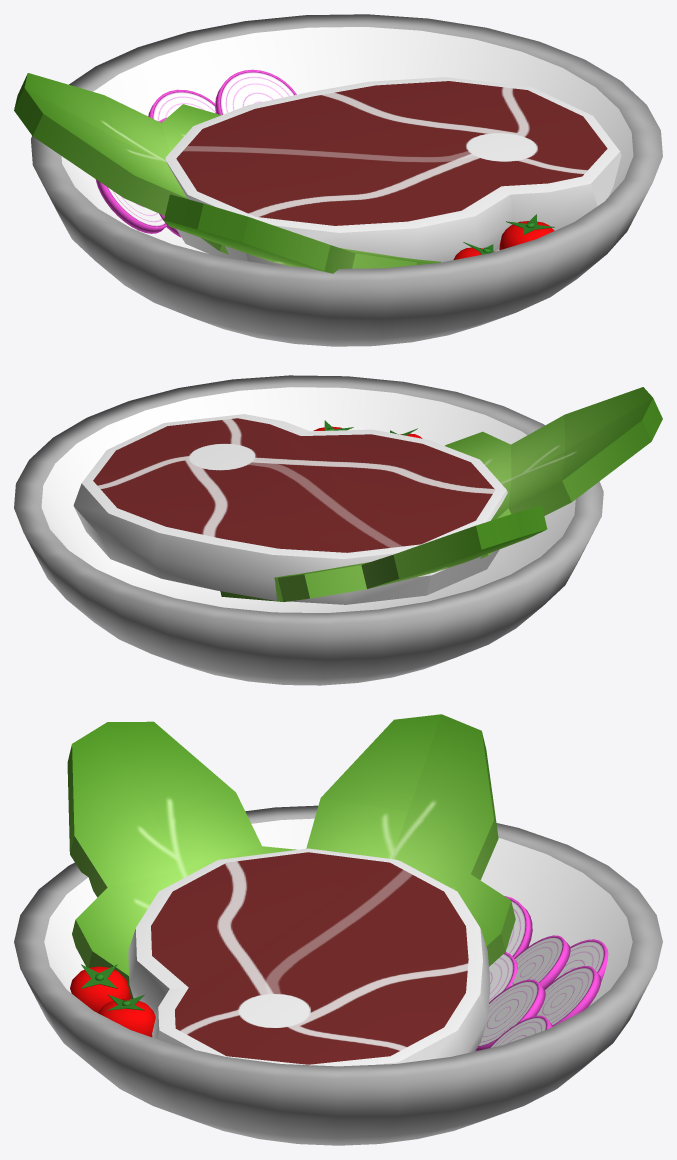
Rendered from Beef.fbx.
3 renders of one model, top to bottom at view 1: azimuth 30°, elevation 25°; view 2: azimuth 150°, elevation 25°; view 3: azimuth 270°, elevation 25°, orthographic. The views are drawn at different scales.
Visible parts, largest first — view 1: BeefPlate, Beef, Lettuce.002, Lettuce.001, Onions, Tomato.001; view 2: BeefPlate, Beef, Lettuce.001, Lettuce.002; view 3: Beef, BeefPlate, Lettuce.001, Lettuce.002, Onions, Tomato.002, Tomato.001.
Boxes of the visible parts, x1,y1,x2,y2 form: BeefPlate: [31, 14, 662, 346]; Beef: [165, 77, 621, 266]; Lettuce.002: [14, 73, 228, 254]; Lettuce.001: [164, 194, 440, 273]; Onions: [95, 69, 296, 237]; Tomato.001: [499, 214, 554, 249]; BeefPlate: [14, 375, 603, 685]; Beef: [73, 414, 507, 604]; Lettuce.001: [445, 387, 662, 558]; Lettuce.002: [220, 505, 547, 601]; Beef: [128, 848, 490, 1066]; BeefPlate: [14, 805, 662, 1145]; Lettuce.001: [67, 721, 296, 999]; Lettuce.002: [306, 714, 515, 966]; Onions: [475, 896, 608, 1051]; Tomato.002: [70, 964, 130, 1012]; Tomato.001: [98, 994, 155, 1037].
Size of the model in its own units: 32.45 by 11.25 by 31.83.
